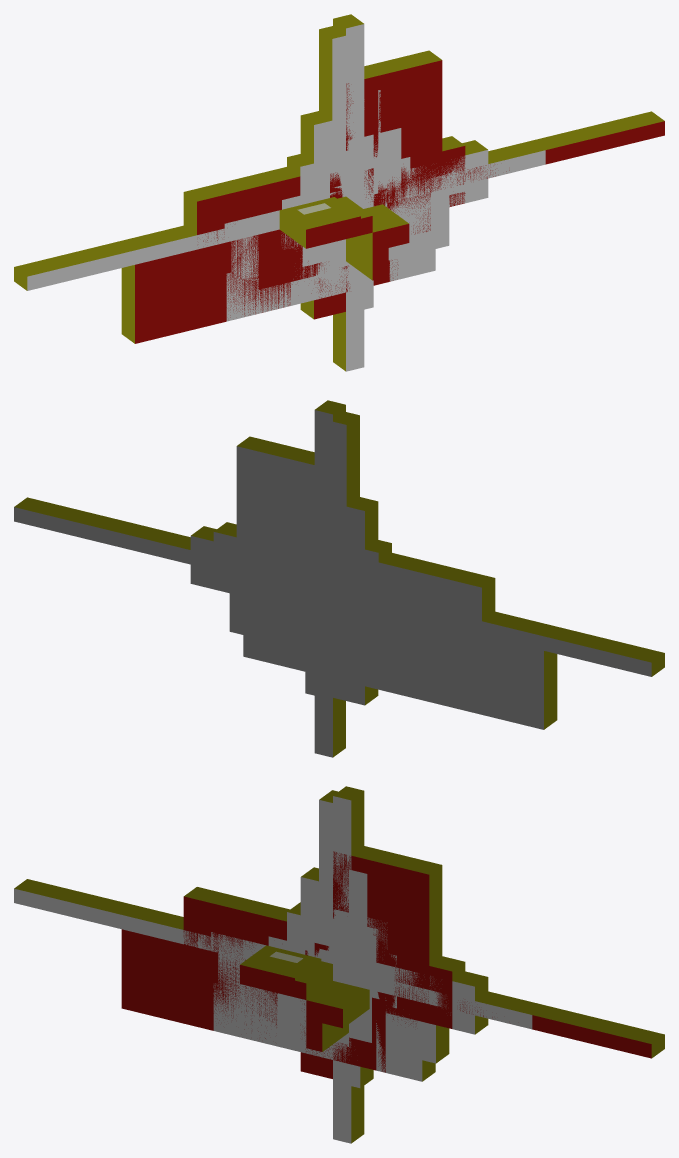
File: idf.obj
The picture shows the model from 3 angles, top to bottom: view 1: azimuth 30°, elevation 25°; view 2: azimuth 150°, elevation 25°; view 3: azimuth 330°, elevation 25°; orthographic projection.
Size of the model in its own units: 84.73 by 43.59 by 9.14.
